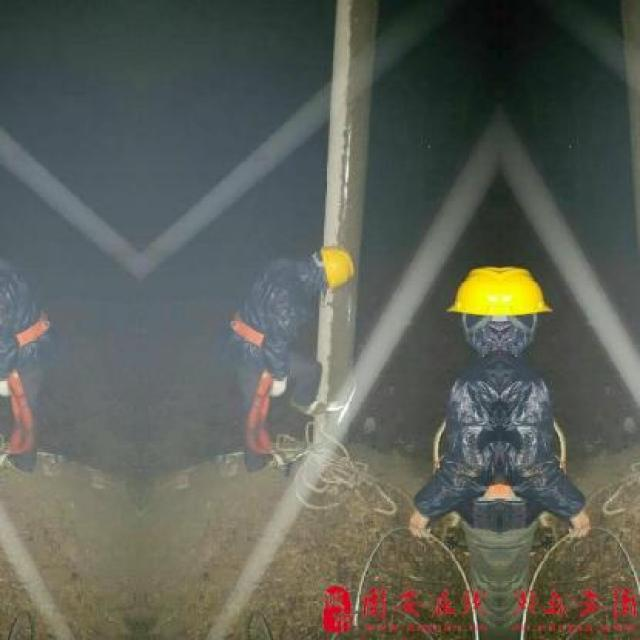helmet: (444, 264, 498, 351), (500, 264, 554, 351), (300, 240, 354, 298)
